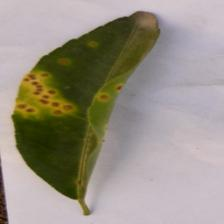canker: (9, 63, 114, 126)
